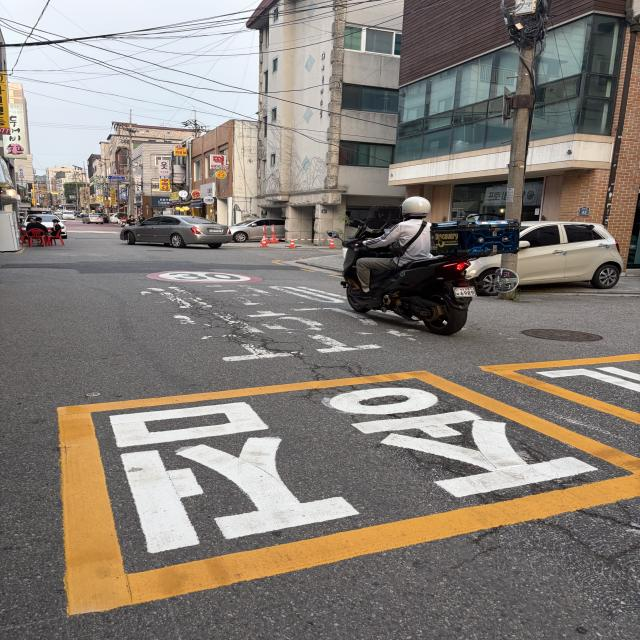car: (453, 211, 635, 307), (106, 202, 243, 263)
motorcycle: (317, 178, 493, 354)
